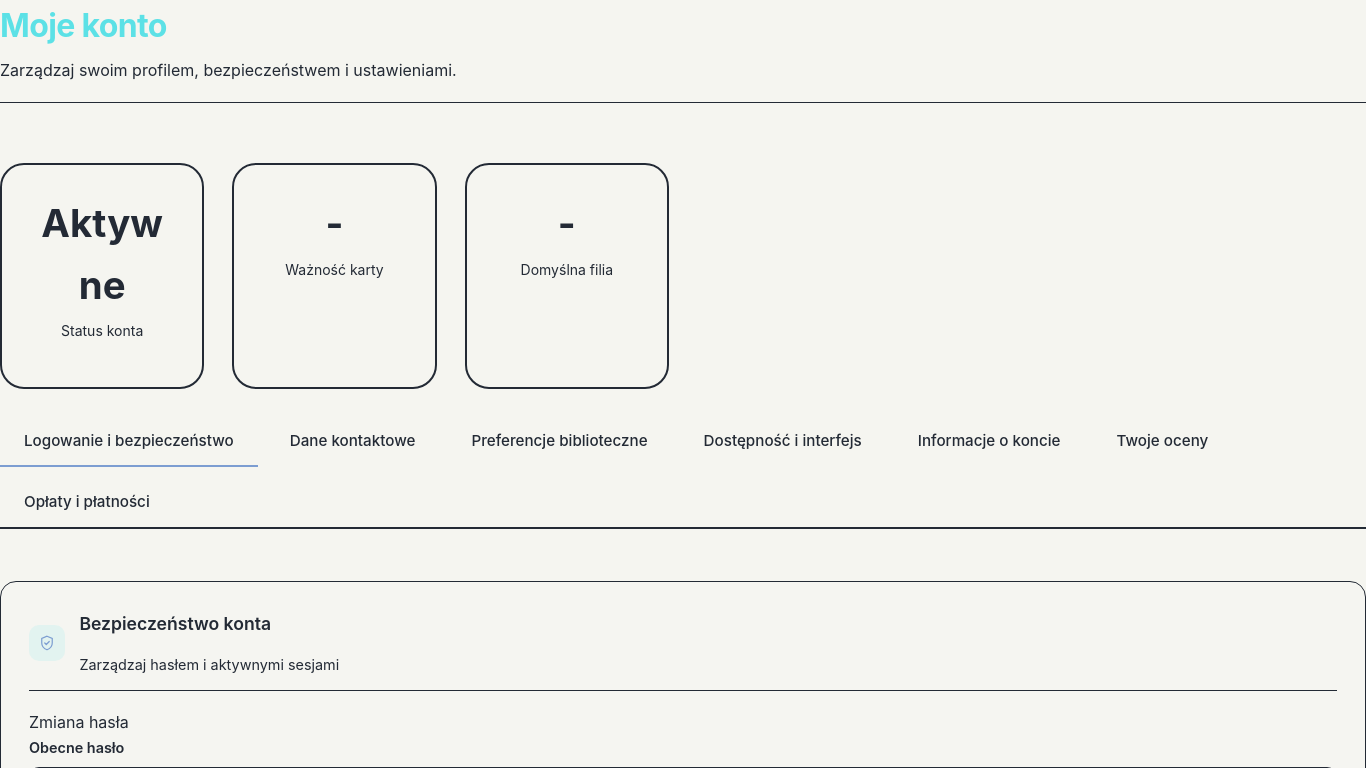
Test case: Profile page › loads profile data and ratings
This screenshot has width=1366, height=768.
Check: the heading "Moje konto" is shown, box [0, 6, 167, 45]
Click the button "Twoje oceny".
click(1162, 442)  # box [1092, 417, 1232, 468]
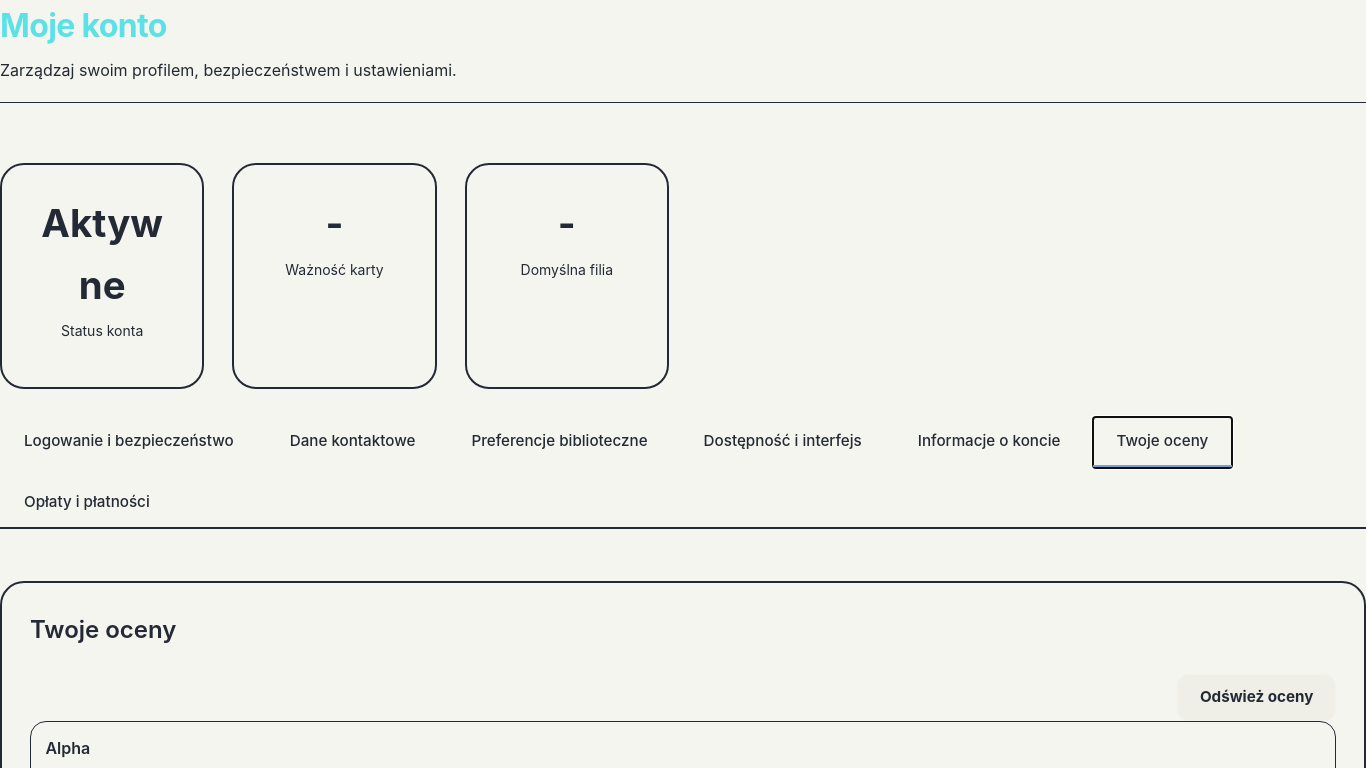
Check: the text "Alpha" is shown, box [45, 738, 90, 758]
